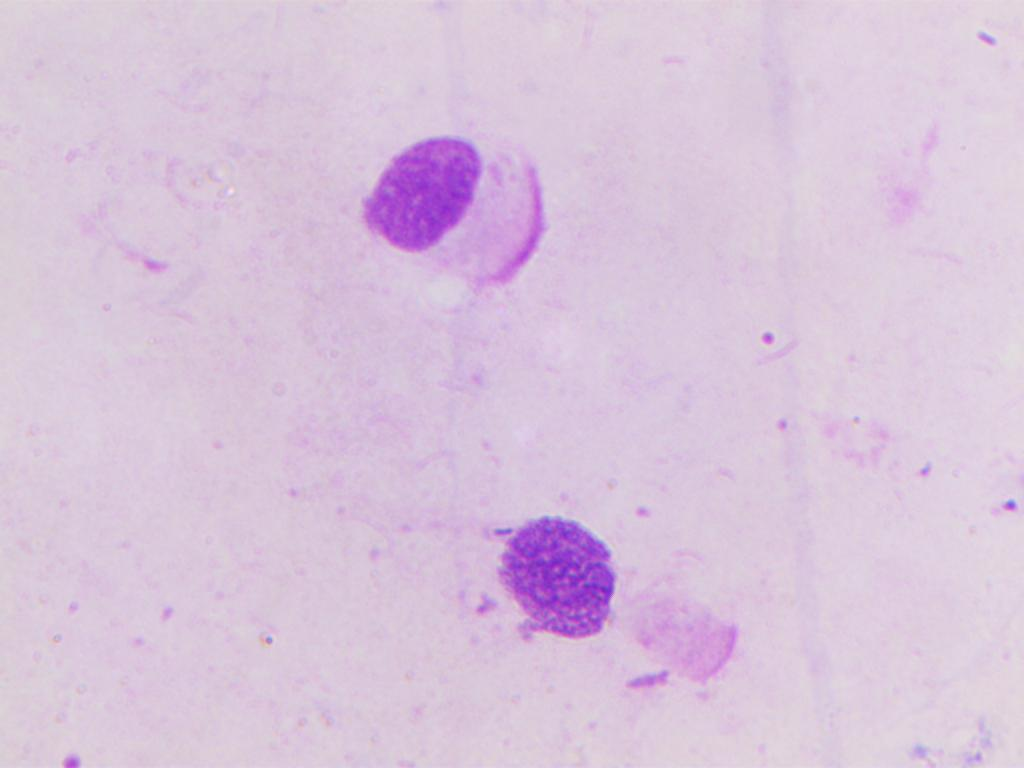epithelial: (479, 497, 753, 696), (348, 116, 551, 295)
